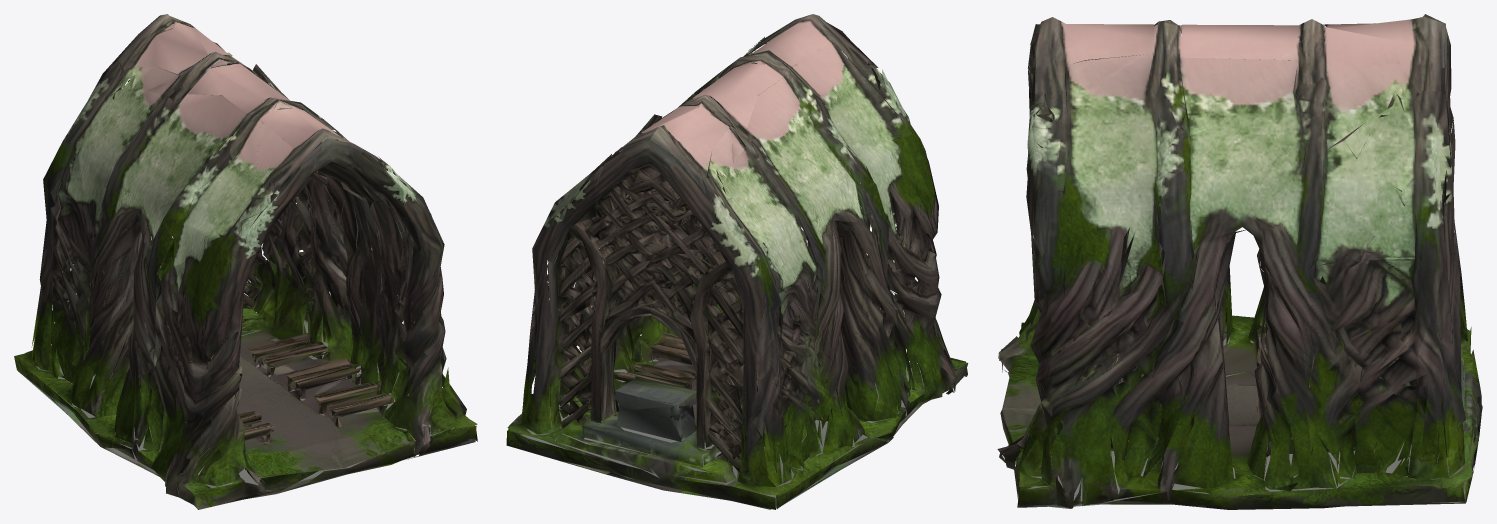
The model's file is mesh_root_chapel_a.glb.
The picture shows the model from 3 angles, left to right: view 1: azimuth 30°, elevation 25°; view 2: azimuth 150°, elevation 25°; view 3: azimuth 270°, elevation 25°; orthographic projection. The views are drawn at different scales.
Parts seen in each view (by area): view 1: mesh_root_chapel_a__Mesh_0; view 2: mesh_root_chapel_a__Mesh_0; view 3: mesh_root_chapel_a__Mesh_0.
Boxes of the visible parts, x1,y1,x2,y2 form: mesh_root_chapel_a__Mesh_0: (14,14,477,509); mesh_root_chapel_a__Mesh_0: (506,14,968,509); mesh_root_chapel_a__Mesh_0: (997,14,1482,509).
Size of the model in its own units: 12.44 by 13.12 by 14.
1 material, 1 textured.
